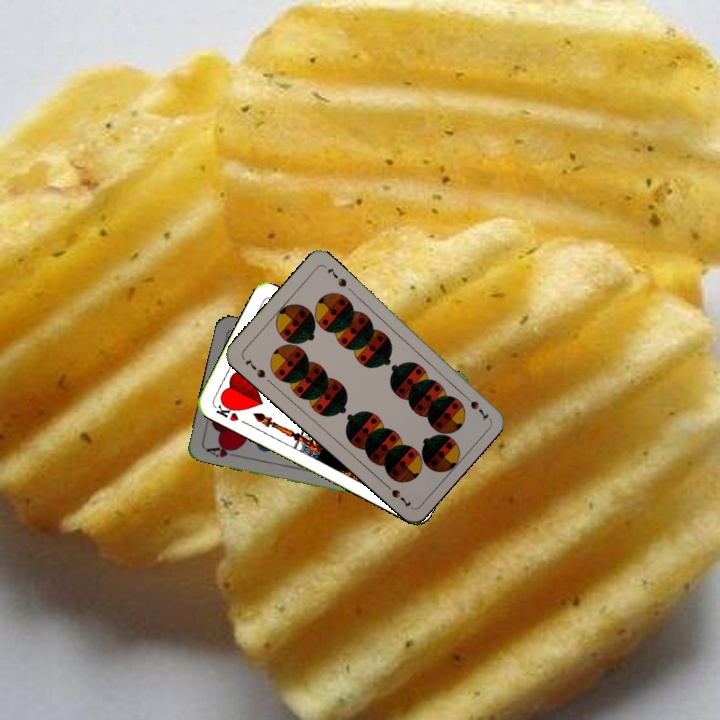HA: (202, 441, 241, 460)
HK: (210, 397, 241, 424)
S7: (241, 354, 268, 380), (458, 389, 482, 412)
